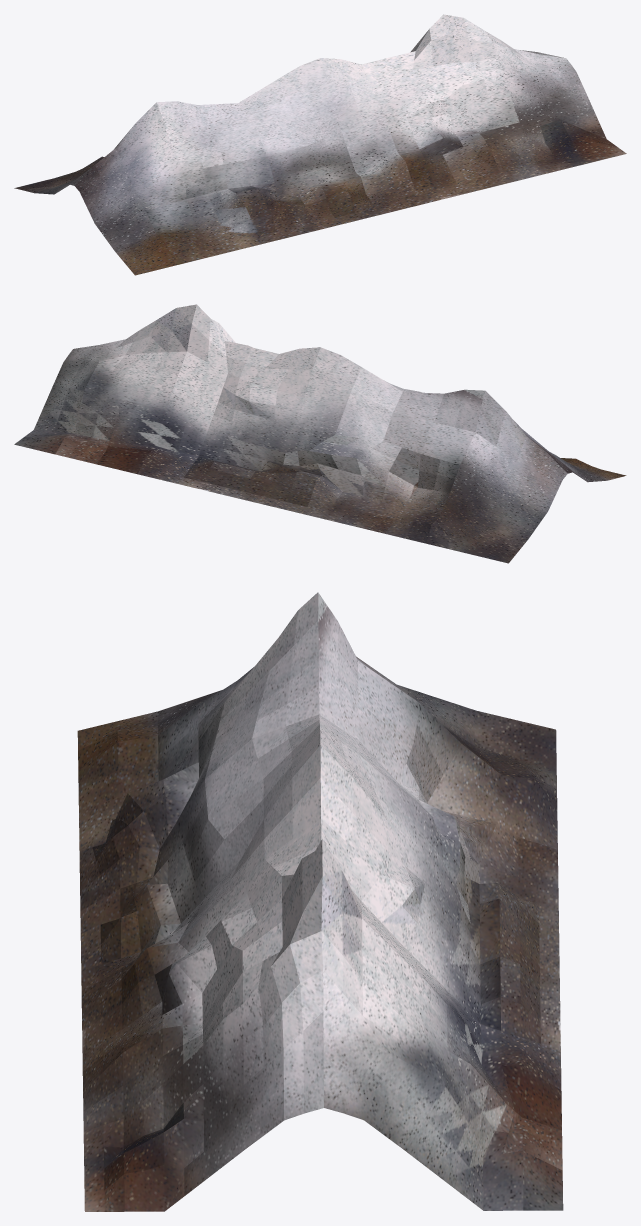
File: straight ridgefbx.fbx
The picture shows the model from 3 angles, top to bottom: view 1: azimuth 30°, elevation 25°; view 2: azimuth 150°, elevation 25°; view 3: azimuth 270°, elevation 25°; orthographic projection. The views are drawn at different scales.
Parts seen in each view (by area): view 1: Ridge; view 2: Ridge; view 3: Ridge.
Part boxes in pixels (box(x1,y1,x2,y2)): Ridge: box(14, 14, 626, 275); Ridge: box(14, 304, 626, 563); Ridge: box(77, 592, 563, 1211).
Bounding box in the file's own units: 477 × 116 × 203.
